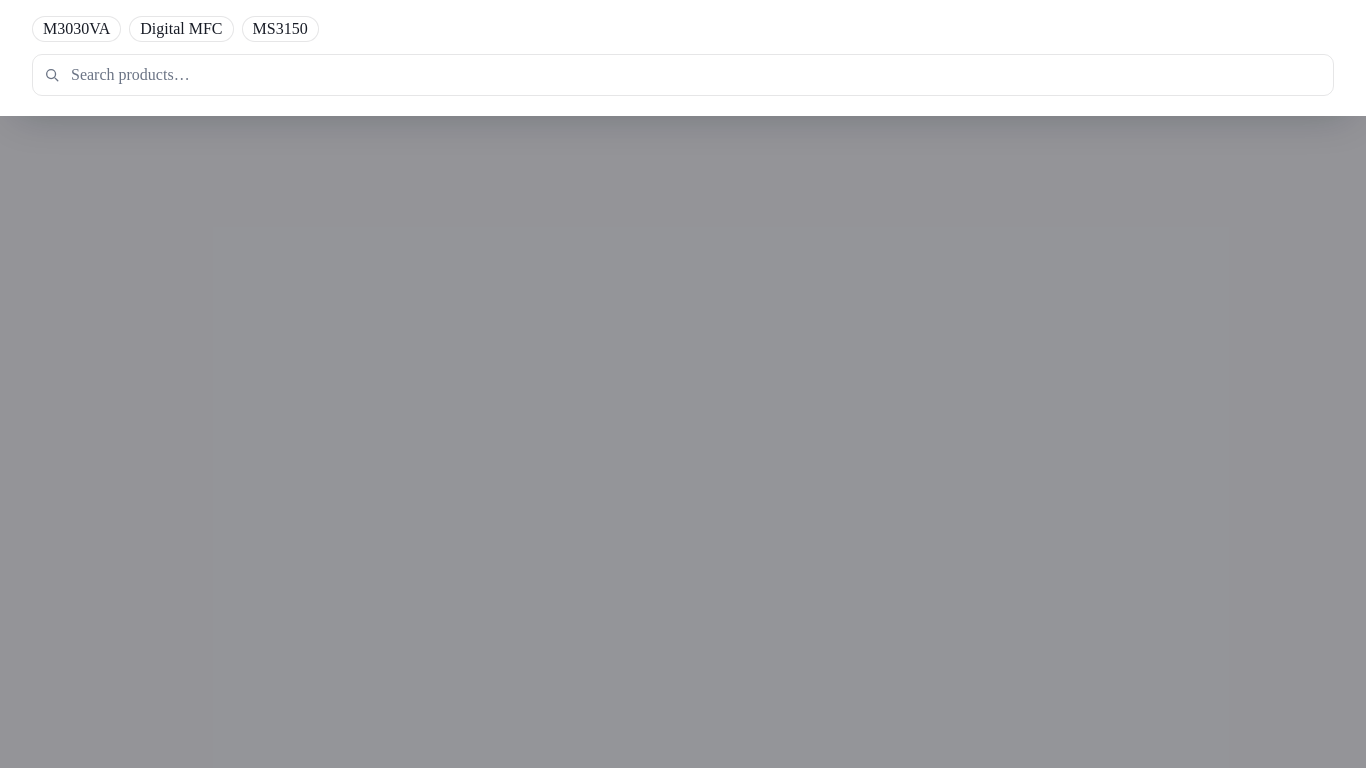
Test case: SearchPanel › typing a query renders one result row per hit
In the search field with placeholder "Search products…": (683,75) [32,54,1334,96], type "MS"
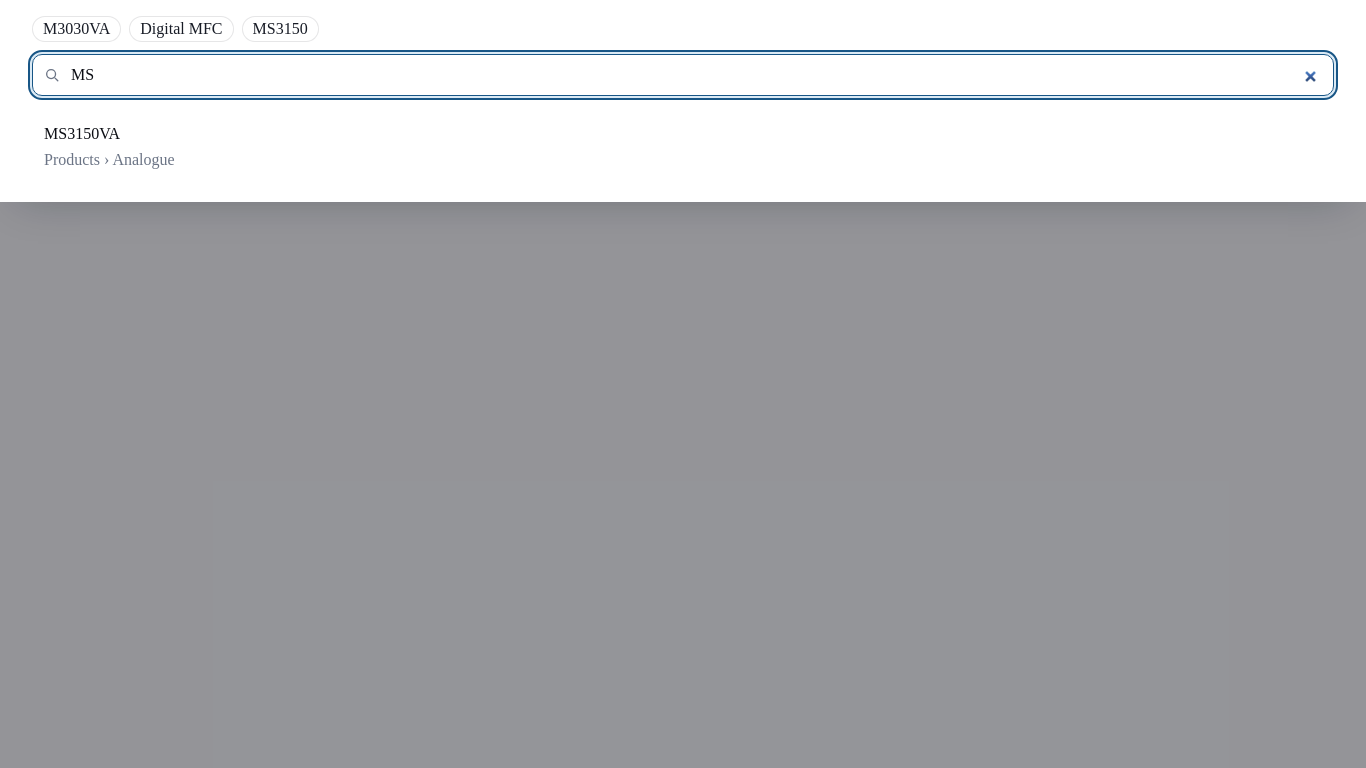
Expected: the number of links is 1, [44,125,175,168]
Expected: the link "MS3150VA Products › Analogue" is shown, [44,125,175,168]
